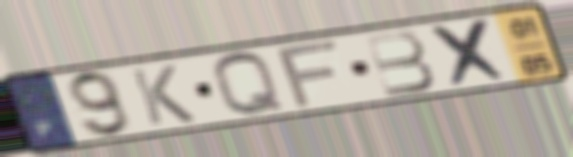9: (66, 70, 134, 140)
B: (360, 29, 439, 99)
F: (273, 37, 344, 112)
K: (126, 63, 199, 128)
Q: (209, 50, 290, 119)
X: (426, 16, 514, 90)
